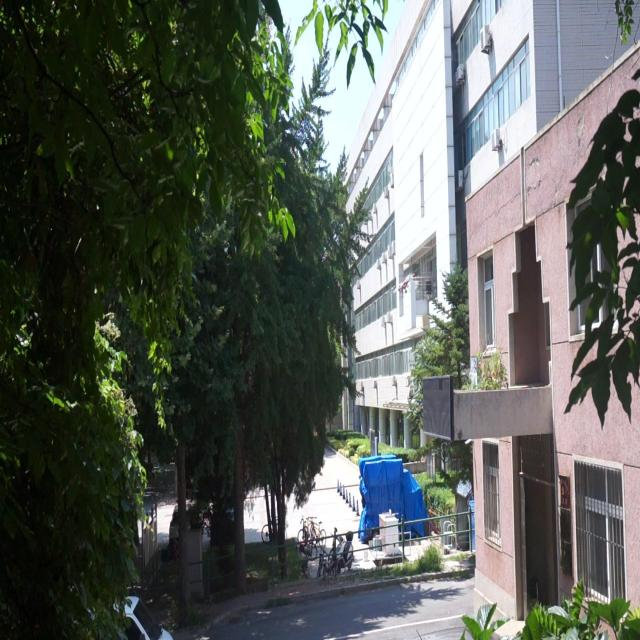drone: (392, 274, 412, 296)
